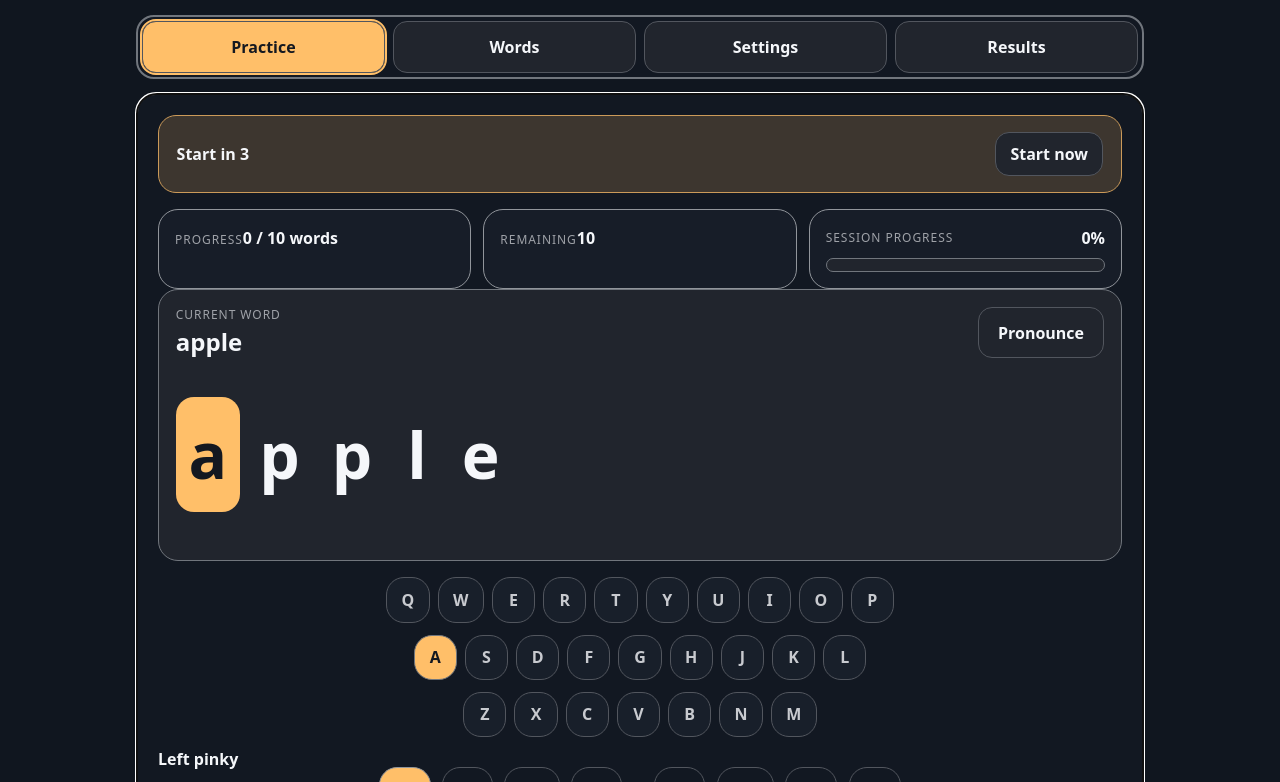
Test case: App › adds a custom word
Click the button "Words" at (514, 47), box [393, 21, 636, 73]
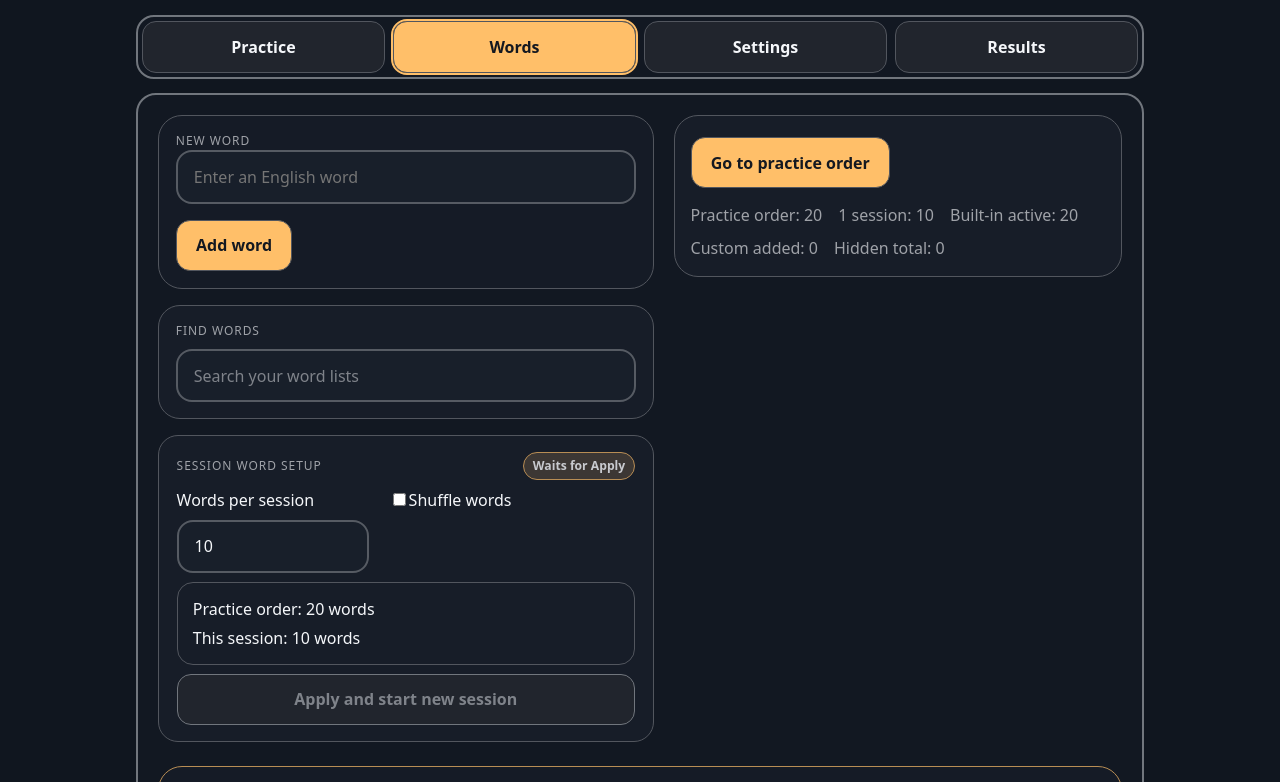
Type "banana" into the field named "New word" at (406, 177), box [176, 150, 636, 204]
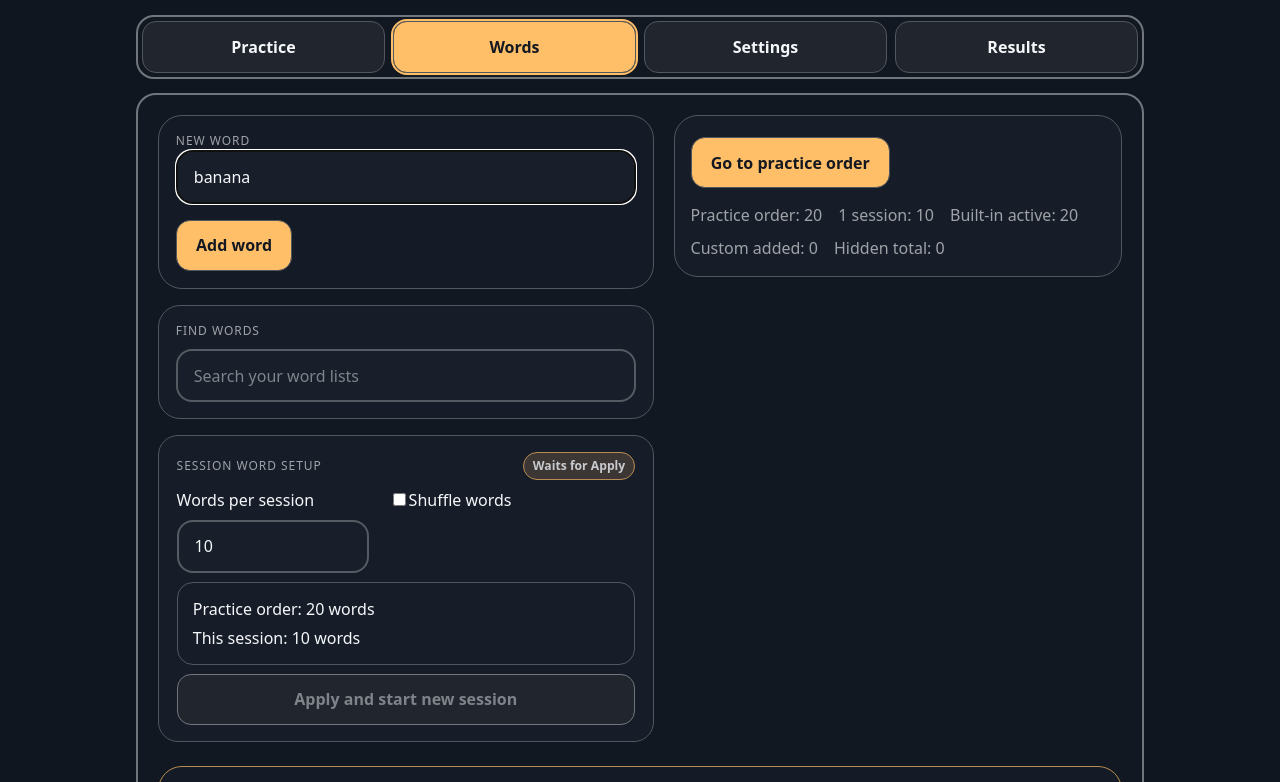
Click the button "Add word" at (234, 245), box [176, 220, 292, 271]
(page scrolled)
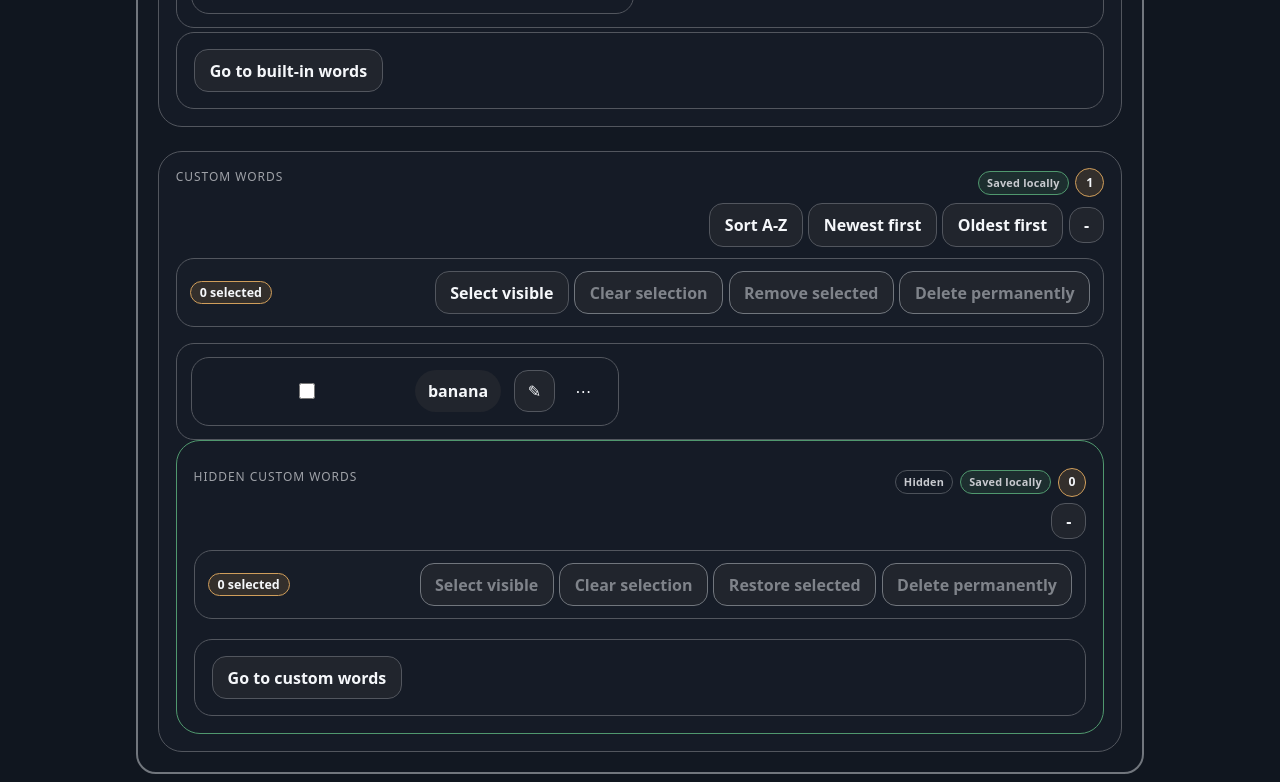
Now the element with test id "custom-word-list" shows "banana", box [428, 380, 488, 402]
